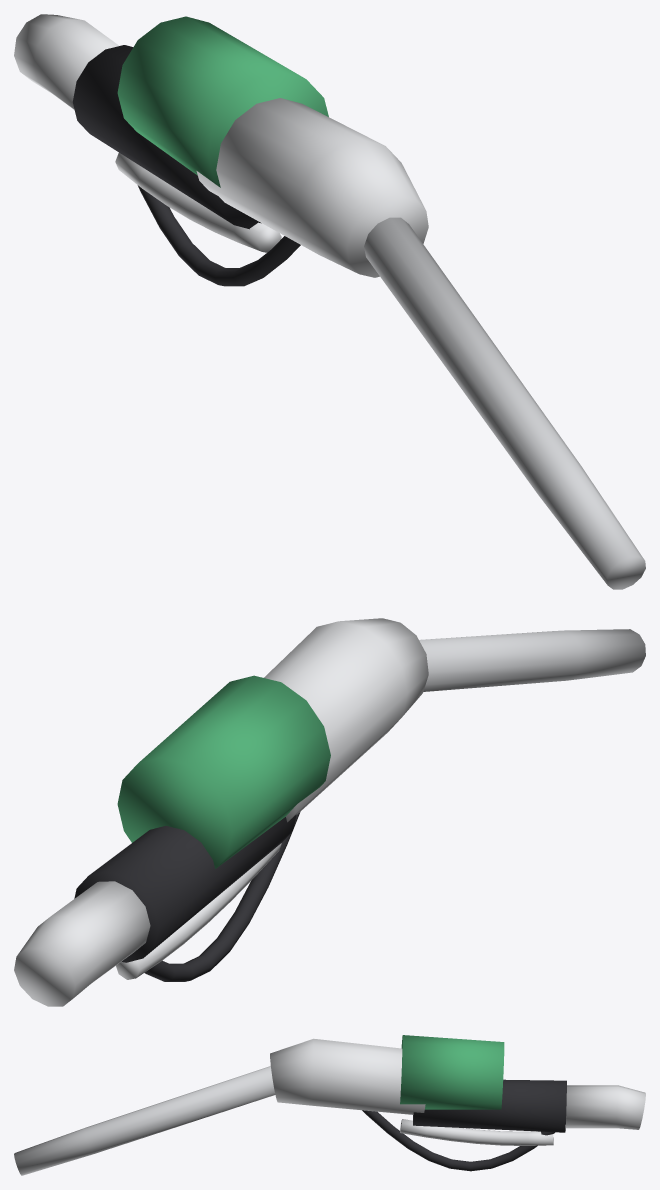
Rendered from fuel_nozzle.glb.
The picture shows the model from 3 angles, top to bottom: view 1: azimuth 30°, elevation 25°; view 2: azimuth 150°, elevation 25°; view 3: azimuth 270°, elevation 25°; orthographic projection. The views are drawn at different scales.
Parts seen in each view (by area): view 1: body, spout, boot, grip, swivel, guard, lever; view 2: boot, body, spout, grip, swivel, guard, lever; view 3: body, spout, boot, grip, swivel, lever, guard.
Part boxes in pixels (x1,y1,x2,y2): body: (196, 98, 428, 277); spout: (364, 217, 645, 589); boot: (117, 16, 328, 187); grip: (72, 45, 261, 229); swivel: (14, 14, 118, 109); guard: (137, 185, 300, 286); lever: (115, 152, 281, 252); boot: (117, 675, 330, 868); body: (264, 618, 428, 822); spout: (419, 629, 645, 691); grip: (74, 814, 296, 962); swivel: (14, 881, 150, 1006); guard: (144, 812, 300, 981); lever: (116, 843, 281, 979); body: (270, 1038, 425, 1114); spout: (14, 1066, 275, 1175); boot: (400, 1035, 504, 1109); grip: (413, 1079, 566, 1132); swivel: (566, 1085, 645, 1129); lever: (400, 1119, 553, 1145); guard: (362, 1110, 554, 1171).
Size of the model in its own units: 0.06 by 0.1184 by 0.4979.
